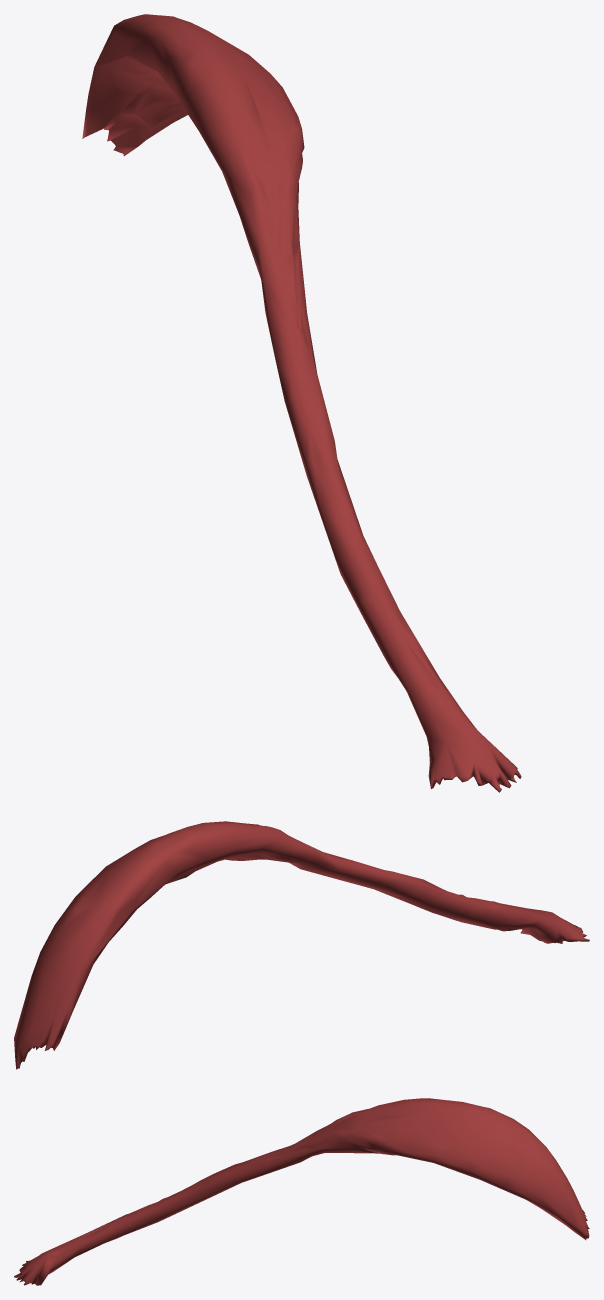
Rendered from extensor-hallucis-brevis-l.glb.
The picture shows the model from 3 angles, top to bottom: view 1: azimuth 30°, elevation 25°; view 2: azimuth 150°, elevation 25°; view 3: azimuth 270°, elevation 25°; orthographic projection. The views are drawn at different scales.
Parts seen in each view (by area): view 1: Extensor hallucis brevis.l; view 2: Extensor hallucis brevis.l; view 3: Extensor hallucis brevis.l.
Part boxes in pixels (x1,y1,x2,y2): Extensor hallucis brevis.l: (82, 14, 521, 792); Extensor hallucis brevis.l: (14, 821, 589, 1069); Extensor hallucis brevis.l: (14, 1098, 589, 1285).
Bounding box in the file's own units: 0.0339 × 0.0479 × 0.1218.
